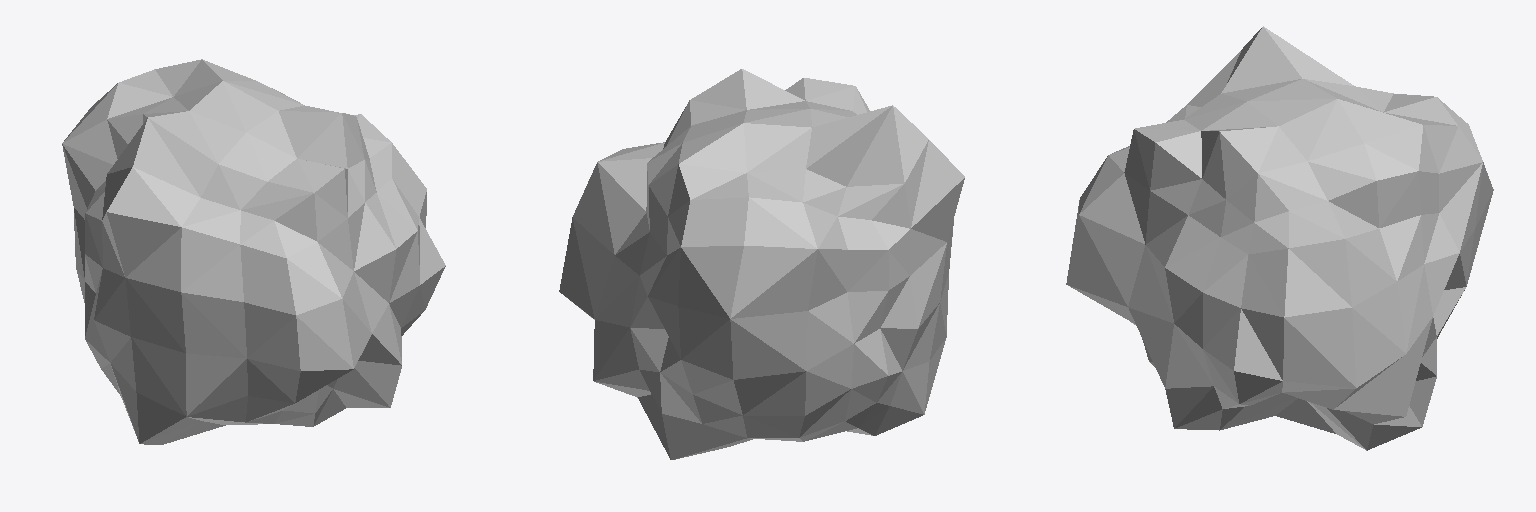
The model's file is rock6.obj.
The picture shows the model from 3 angles: view 1: azimuth 30°, elevation 25°; view 2: azimuth 150°, elevation 25°; view 3: azimuth 270°, elevation 25°; orthographic projection.
Visible parts, largest first — view 1: Mesh; view 2: Mesh; view 3: Mesh.
Boxes of the visible parts, box(x1,y1,x2,y2) form: Mesh: box(62, 59, 445, 444); Mesh: box(559, 69, 964, 459); Mesh: box(1066, 26, 1493, 450).
Size of the model in its own units: 3.23 by 3.09 by 3.45.